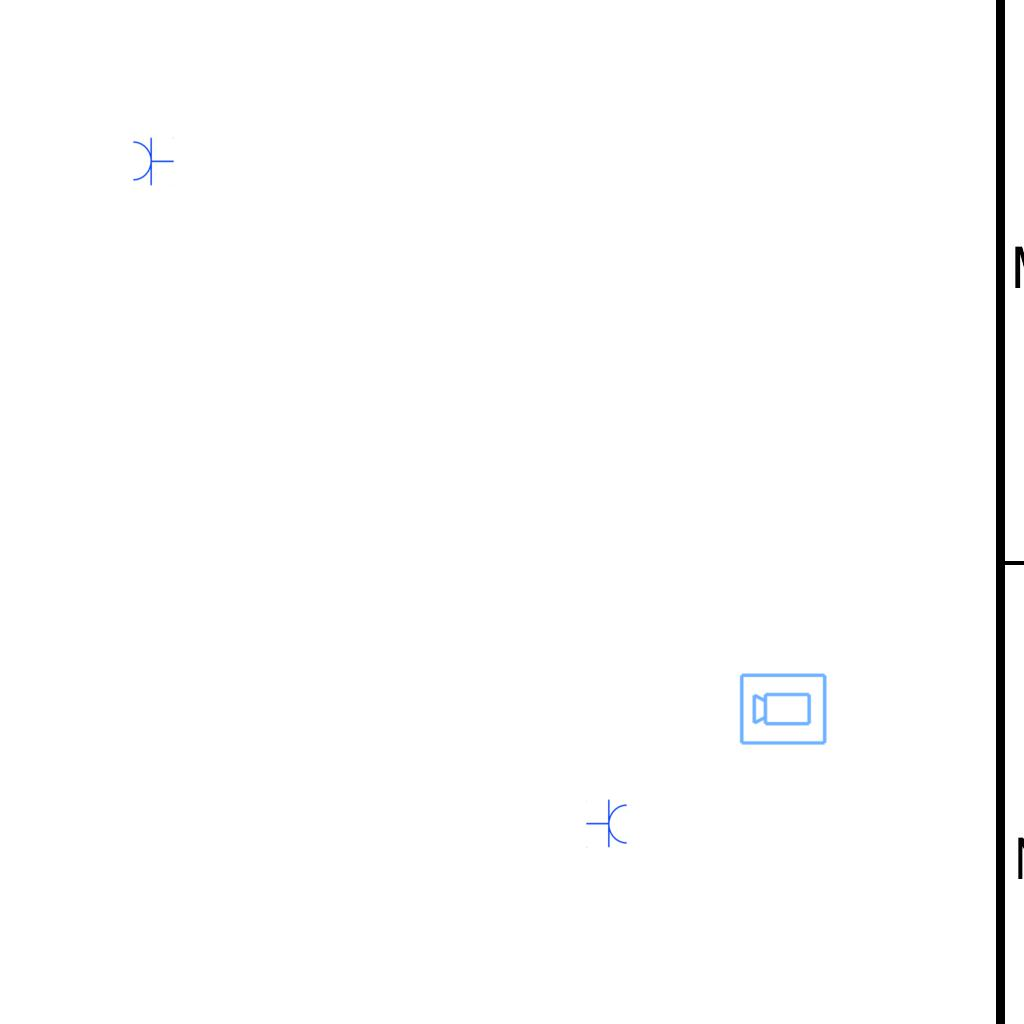KFO_Kamera_mit_Festobjektiv: (738, 670, 829, 747)
Schukosteckdose_einfach: (586, 799, 629, 849), (131, 136, 174, 186)
